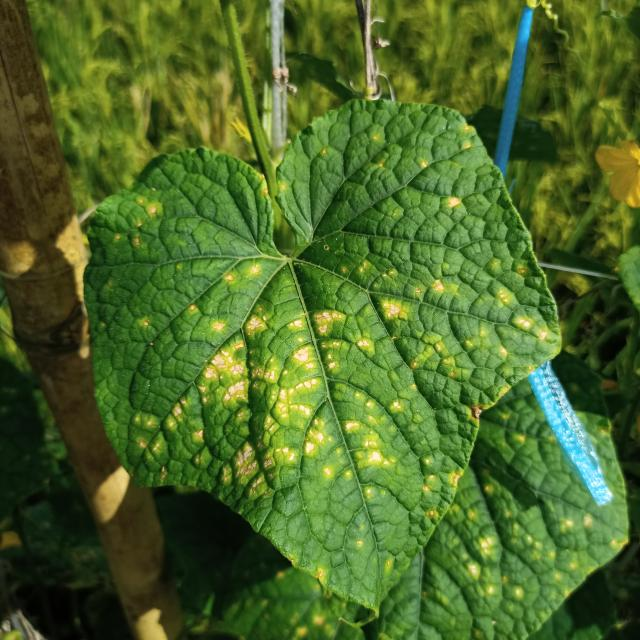disease_cucumber: (118, 137, 548, 566)
